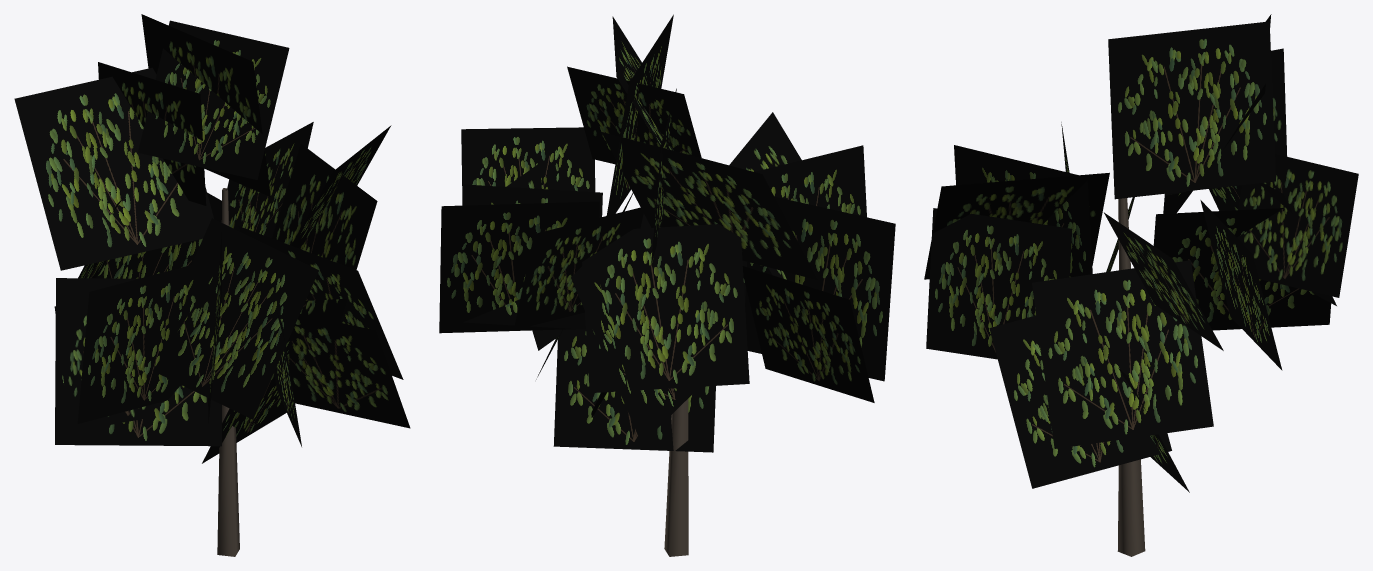
The model's file is tpl_dike_elms_dike_ash_lo.glb.
3 views of the same model, side by side, from view 1: azimuth 30°, elevation 25°; view 2: azimuth 150°, elevation 25°; view 3: azimuth 270°, elevation 25° (orthographic). The views are drawn at different scales.
Parts seen in each view (by area): view 1: tpl_dike_elms_dike_ash_lo; view 2: tpl_dike_elms_dike_ash_lo; view 3: tpl_dike_elms_dike_ash_lo.
Boxes of the visible parts, bbox=[...] form: tpl_dike_elms_dike_ash_lo: bbox=[14, 14, 410, 556]; tpl_dike_elms_dike_ash_lo: bbox=[439, 14, 895, 556]; tpl_dike_elms_dike_ash_lo: bbox=[924, 14, 1358, 556].
Bounding box in the file's own units: 13.99 × 18.59 × 14.1.
Materials: 2 (1 with a texture image).
